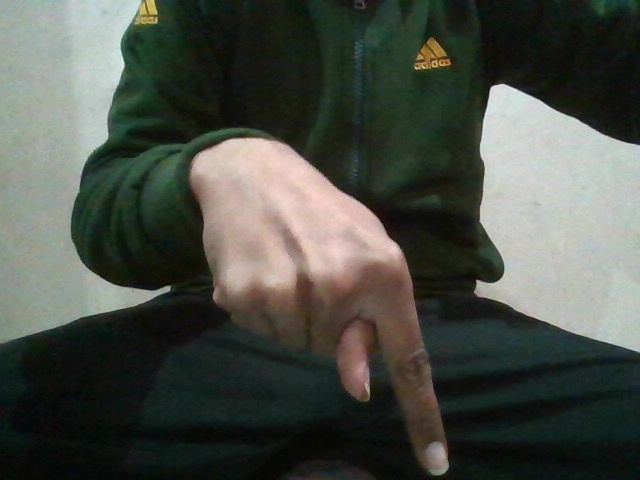Z: (209, 230, 464, 480)
